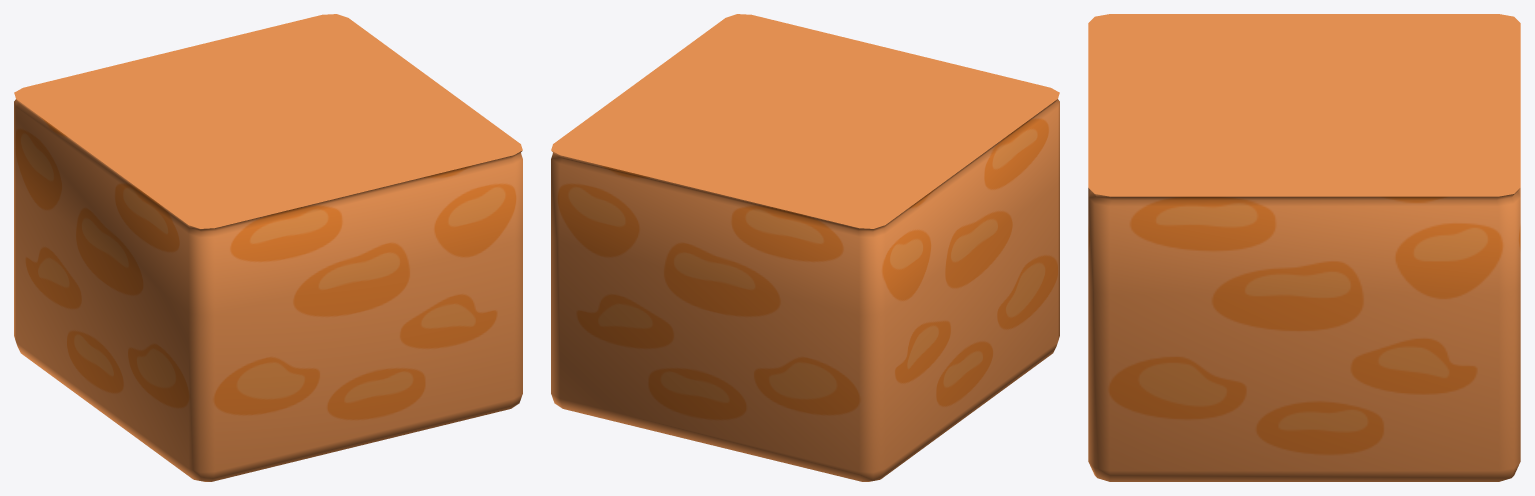
The model's file is 3D_Tile_Socket_Underground_01.fbx.
The picture shows the model from 3 angles, left to right: view 1: azimuth 30°, elevation 25°; view 2: azimuth 150°, elevation 25°; view 3: azimuth 270°, elevation 25°; orthographic projection. The views are drawn at different scales.
Visible parts, largest first — view 1: 3D_Tile_Socket_Underground_01; view 2: 3D_Tile_Socket_Underground_01; view 3: 3D_Tile_Socket_Underground_01.
Boxes of the visible parts, x1=… form: 3D_Tile_Socket_Underground_01: x1=14, y1=14, x2=522, y2=481; 3D_Tile_Socket_Underground_01: x1=551, y1=14, x2=1059, y2=481; 3D_Tile_Socket_Underground_01: x1=1088, y1=14, x2=1520, y2=481.
Size of the model in its own units: 200 by 150 by 200.
